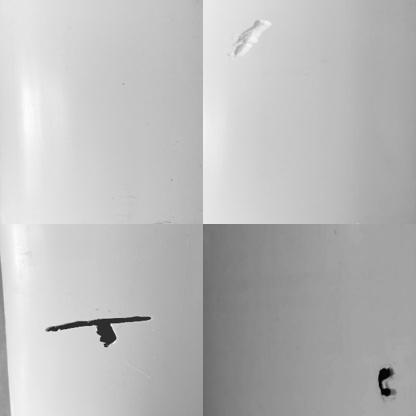fengxi: (44, 317, 152, 329)
kongdong: (374, 363, 398, 397), (92, 321, 119, 347)
sunshang: (229, 16, 269, 58)
